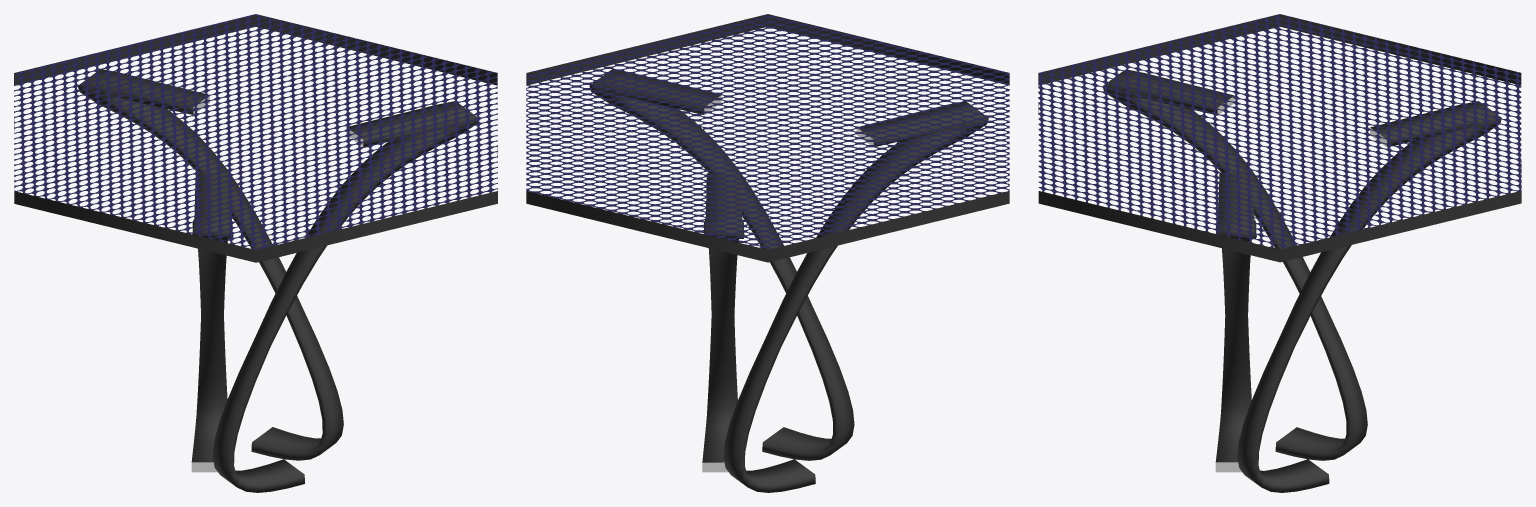
The picture shows the model from 3 angles, left to right: view 1: azimuth 30°, elevation 25°; view 2: azimuth 150°, elevation 25°; view 3: azimuth 270°, elevation 25°; orthographic projection.
Parts seen in each view (by area): view 1: Outdoor Counter Table.001; view 2: Outdoor Counter Table.001; view 3: Outdoor Counter Table.001.
Boxes of the visible parts, <box> form: Outdoor Counter Table.001: <box>14,14,497,492</box>; Outdoor Counter Table.001: <box>526,14,1009,492</box>; Outdoor Counter Table.001: <box>1038,14,1521,492</box>.
Size of what is drawn, in the model's own units: 1.67 by 1.1 by 1.45.
Materials: 3 (2 with a texture image).
